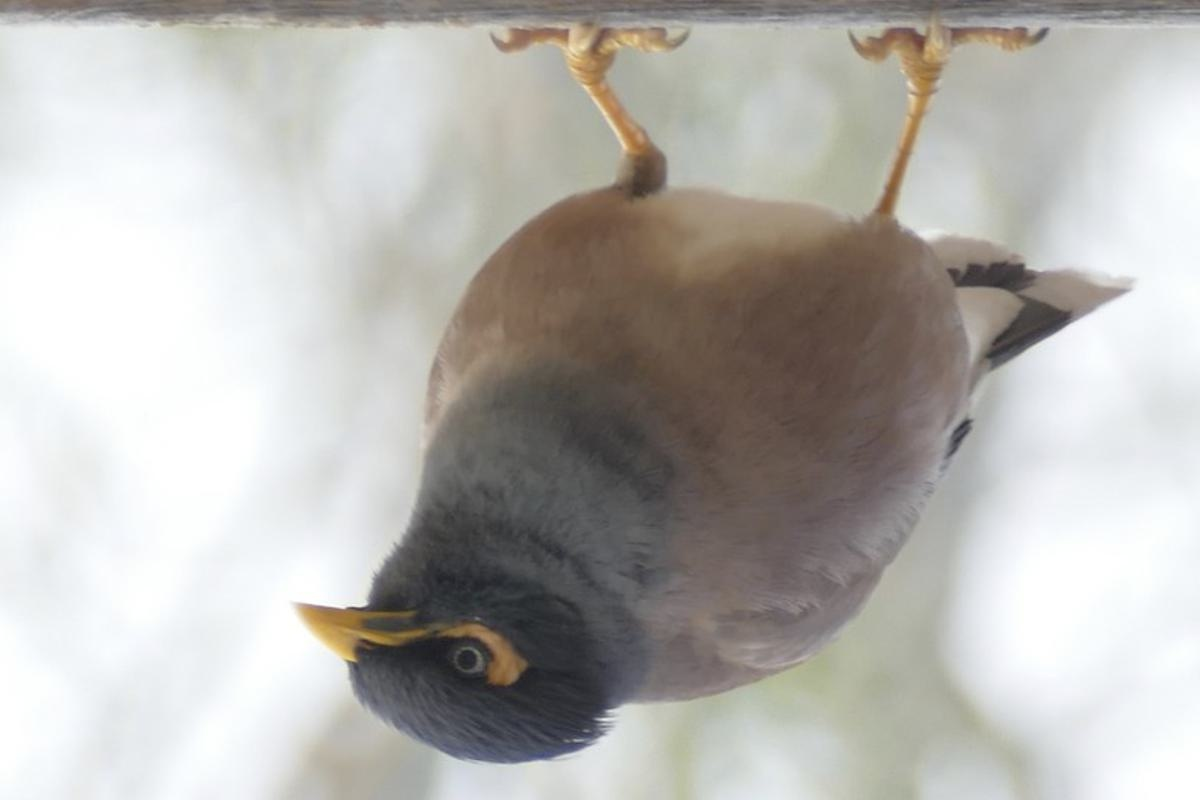myna: (315, 54, 1008, 743)
